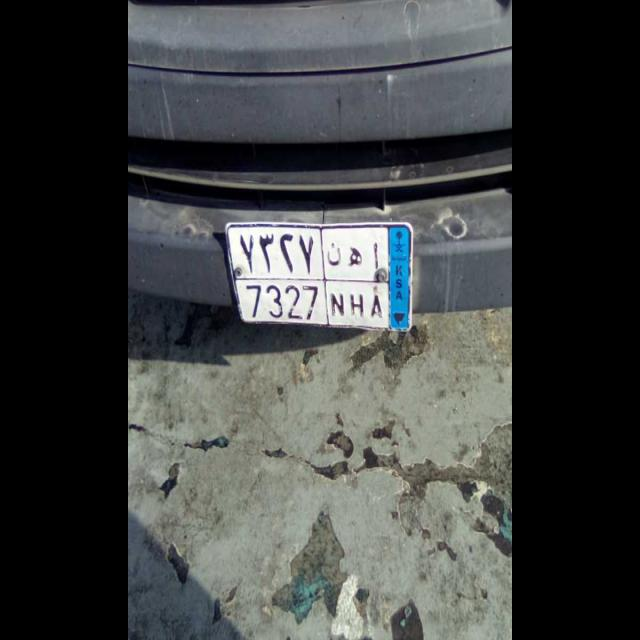license_plate: (235, 278, 389, 328)
